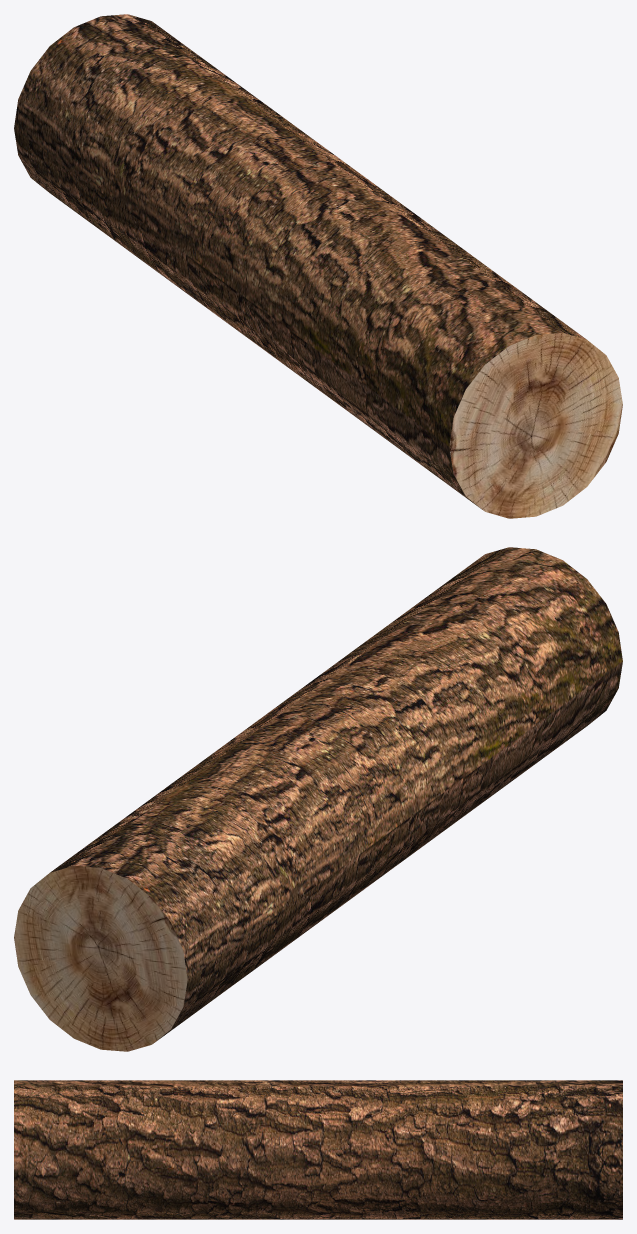
The model's file is Log.fbx.
3 renders of one model, top to bottom at view 1: azimuth 30°, elevation 25°; view 2: azimuth 150°, elevation 25°; view 3: azimuth 270°, elevation 25°, orthographic. The views are drawn at different scales.
Parts seen in each view (by area): view 1: Cylinder; view 2: Cylinder; view 3: Cylinder.
Boxes of the visible parts, x1=… form: Cylinder: x1=14, y1=14, x2=622, y2=518; Cylinder: x1=14, y1=547, x2=622, y2=1051; Cylinder: x1=14, y1=1080, x2=622, y2=1219.
Size of the model in its own units: 200 by 200 by 868.
